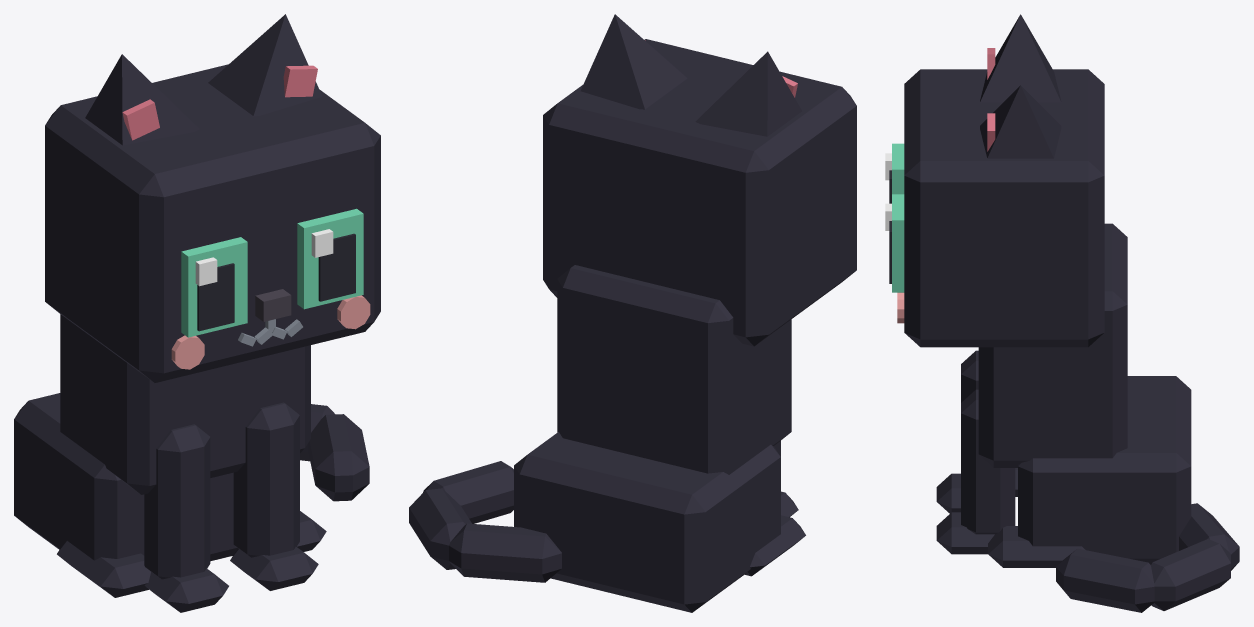
The model's file is CleanACat_Cat_Inky_Sit.fbx.
3 views of the same model, side by side, from view 1: azimuth 30°, elevation 25°; view 2: azimuth 150°, elevation 25°; view 3: azimuth 270°, elevation 25° (orthographic). The views are drawn at different scales.
Visible parts, largest first — view 1: CleanACat_Cat_Inky_Sit_Head, CleanACat_Cat_Inky_Sit_Body, CleanACat_Cat_Inky_Sit_LegF1, CleanACat_Cat_Inky_Sit_LegF2, CleanACat_Cat_Inky_Sit_EarL, CleanACat_Cat_Inky_Sit_Eye2, CleanACat_Cat_Inky_Sit_Eye1, CleanACat_Cat_Inky_Sit_EarR, CleanACat_Cat_Inky_Sit_Tail; view 2: CleanACat_Cat_Inky_Sit_Body, CleanACat_Cat_Inky_Sit_Head, CleanACat_Cat_Inky_Sit_Tail, CleanACat_Cat_Inky_Sit_EarL, CleanACat_Cat_Inky_Sit_EarR; view 3: CleanACat_Cat_Inky_Sit_Head, CleanACat_Cat_Inky_Sit_Body, CleanACat_Cat_Inky_Sit_Tail, CleanACat_Cat_Inky_Sit_LegF1, CleanACat_Cat_Inky_Sit_EarL, CleanACat_Cat_Inky_Sit_EarR, CleanACat_Cat_Inky_Sit_Eye1, CleanACat_Cat_Inky_Sit_LegF2, CleanACat_Cat_Inky_Sit_Eye2.
Boxes of the visible parts, bbox=[...] form: CleanACat_Cat_Inky_Sit_Head: bbox=[45, 64, 380, 382]; CleanACat_Cat_Inky_Sit_Body: bbox=[14, 314, 326, 597]; CleanACat_Cat_Inky_Sit_LegF1: bbox=[230, 402, 318, 590]; CleanACat_Cat_Inky_Sit_LegF2: bbox=[144, 424, 228, 612]; CleanACat_Cat_Inky_Sit_EarL: bbox=[208, 14, 322, 116]; CleanACat_Cat_Inky_Sit_Eye2: bbox=[181, 237, 247, 337]; CleanACat_Cat_Inky_Sit_Eye1: bbox=[297, 208, 363, 309]; CleanACat_Cat_Inky_Sit_EarR: bbox=[85, 54, 199, 145]; CleanACat_Cat_Inky_Sit_Tail: bbox=[300, 404, 369, 501]; CleanACat_Cat_Inky_Sit_Body: bbox=[514, 265, 805, 612]; CleanACat_Cat_Inky_Sit_Head: bbox=[543, 39, 856, 346]; CleanACat_Cat_Inky_Sit_Tail: bbox=[409, 461, 561, 582]; CleanACat_Cat_Inky_Sit_EarL: bbox=[580, 14, 687, 109]; CleanACat_Cat_Inky_Sit_EarR: bbox=[695, 51, 801, 136]; CleanACat_Cat_Inky_Sit_Head: bbox=[897, 69, 1104, 347]; CleanACat_Cat_Inky_Sit_Body: bbox=[978, 223, 1191, 567]; CleanACat_Cat_Inky_Sit_Tail: bbox=[1056, 503, 1239, 612]; CleanACat_Cat_Inky_Sit_LegF1: bbox=[936, 389, 1015, 554]; CleanACat_Cat_Inky_Sit_EarL: bbox=[980, 85, 1061, 158]; CleanACat_Cat_Inky_Sit_EarR: bbox=[980, 14, 1061, 102]; CleanACat_Cat_Inky_Sit_Eye1: bbox=[885, 194, 904, 292]; CleanACat_Cat_Inky_Sit_LegF2: bbox=[936, 350, 978, 513]; CleanACat_Cat_Inky_Sit_Eye2: bbox=[885, 143, 904, 203].
Size of the model in its own units: 1.24 by 1.85 by 1.24.
1 material, 1 textured.
